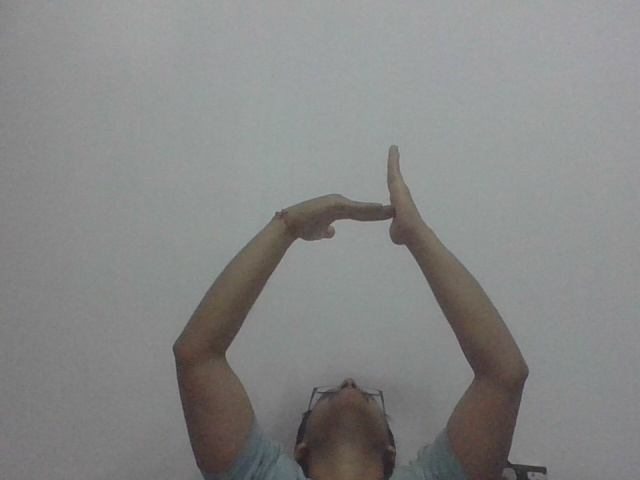Z: (299, 147, 426, 247)
